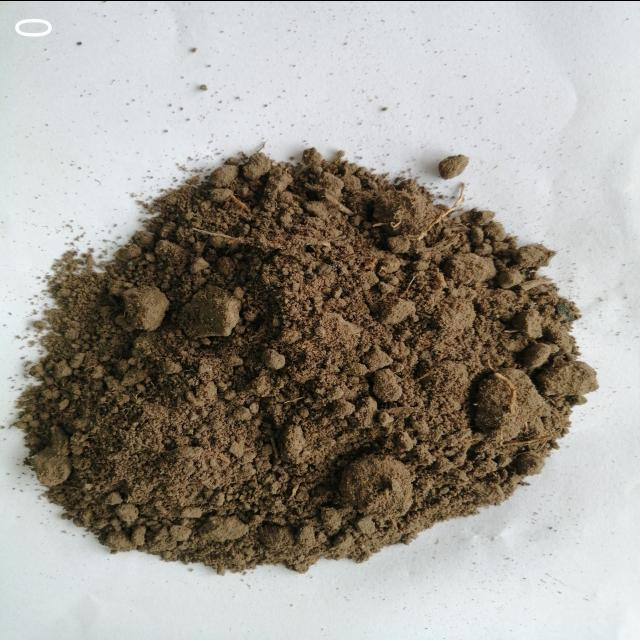soil: (131, 256, 465, 514)
